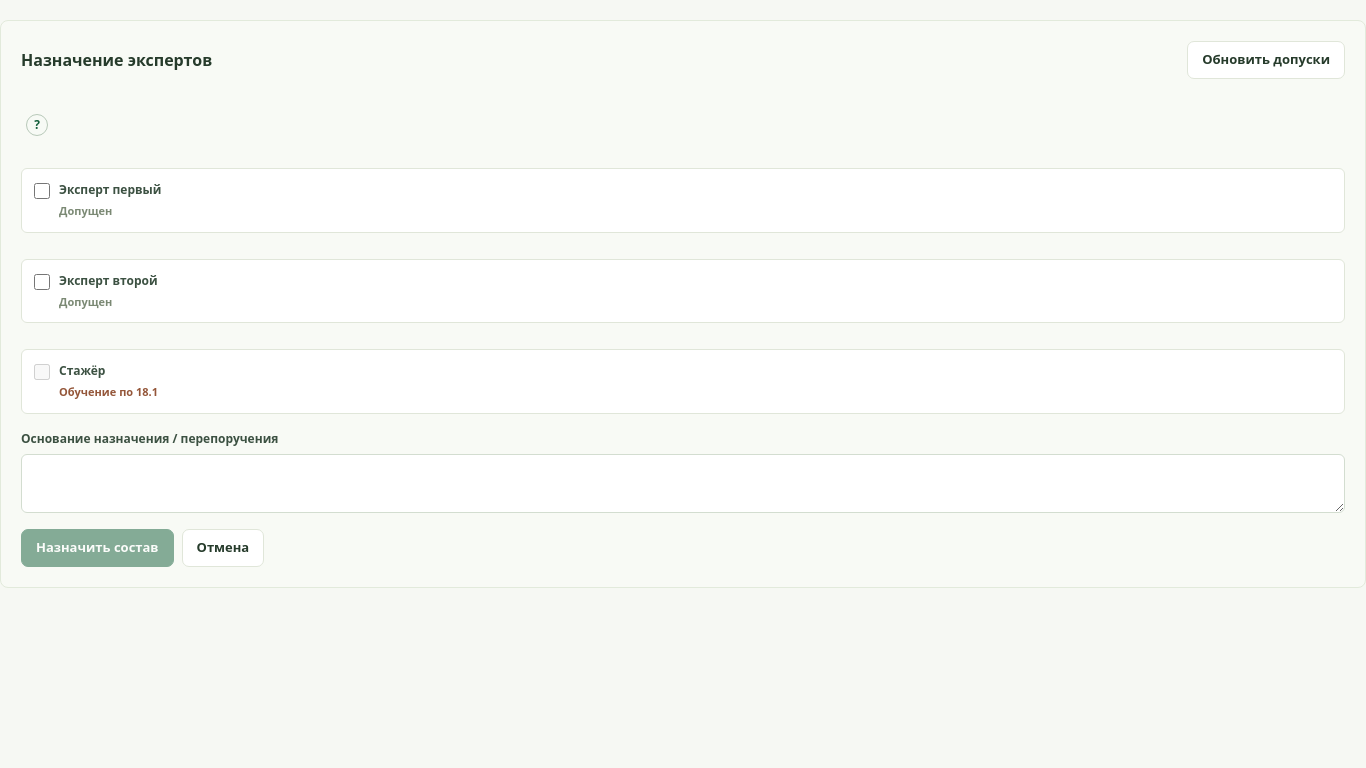
qualified assignment › shows candidate reasons, requires two commission participants and retains selection on a server recheck conflict
This screenshot has width=1366, height=768.
Expected: the checkbox labelled "Стажёр Обучение по 18.1" is disabled, top-left (34, 364), bottom-right (50, 380)
Click the checkbox labelled "Эксперт первый Допущен".
click(42, 191)  # box top-left (34, 183), bottom-right (50, 199)
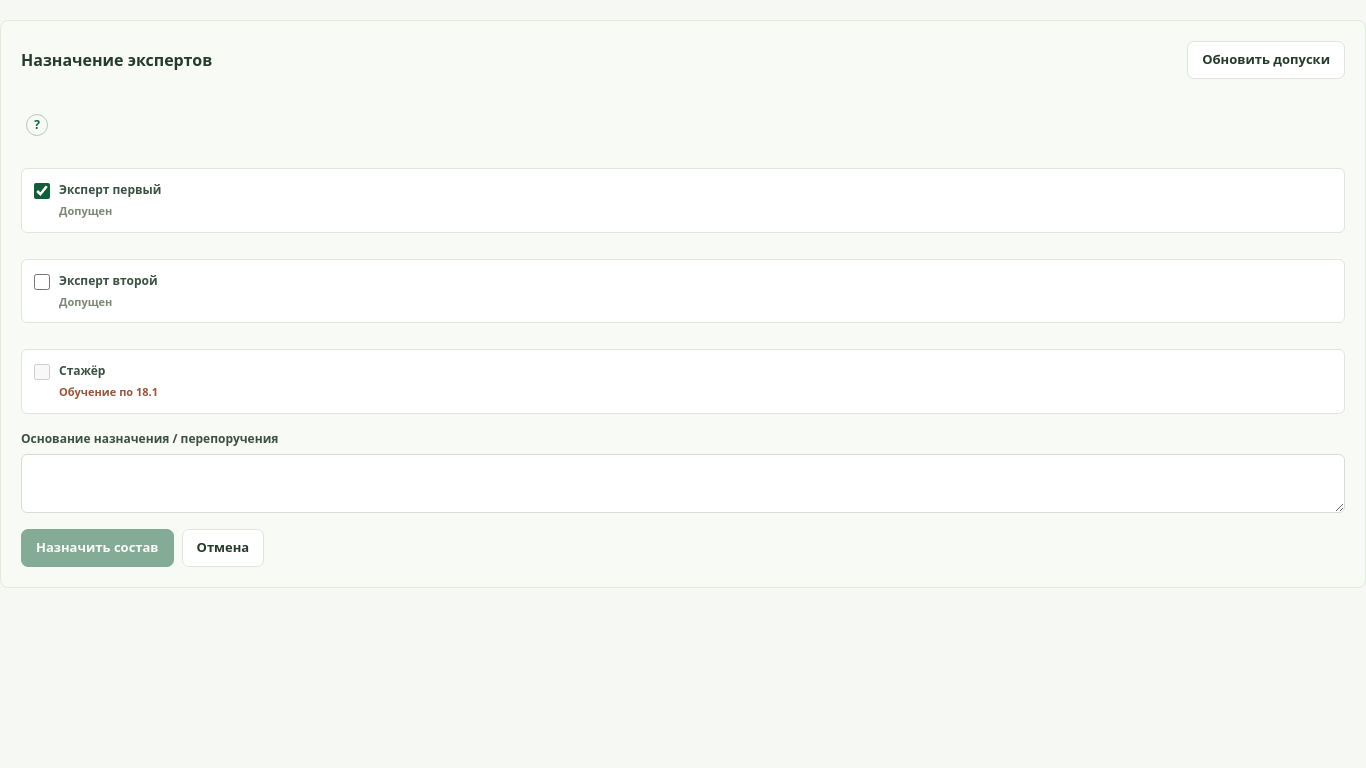
Type "Резолюция начальника" into the text box named "assignment_reason".
click(683, 483); type("Резолюция начальника")  # box top-left (21, 454), bottom-right (1345, 512)
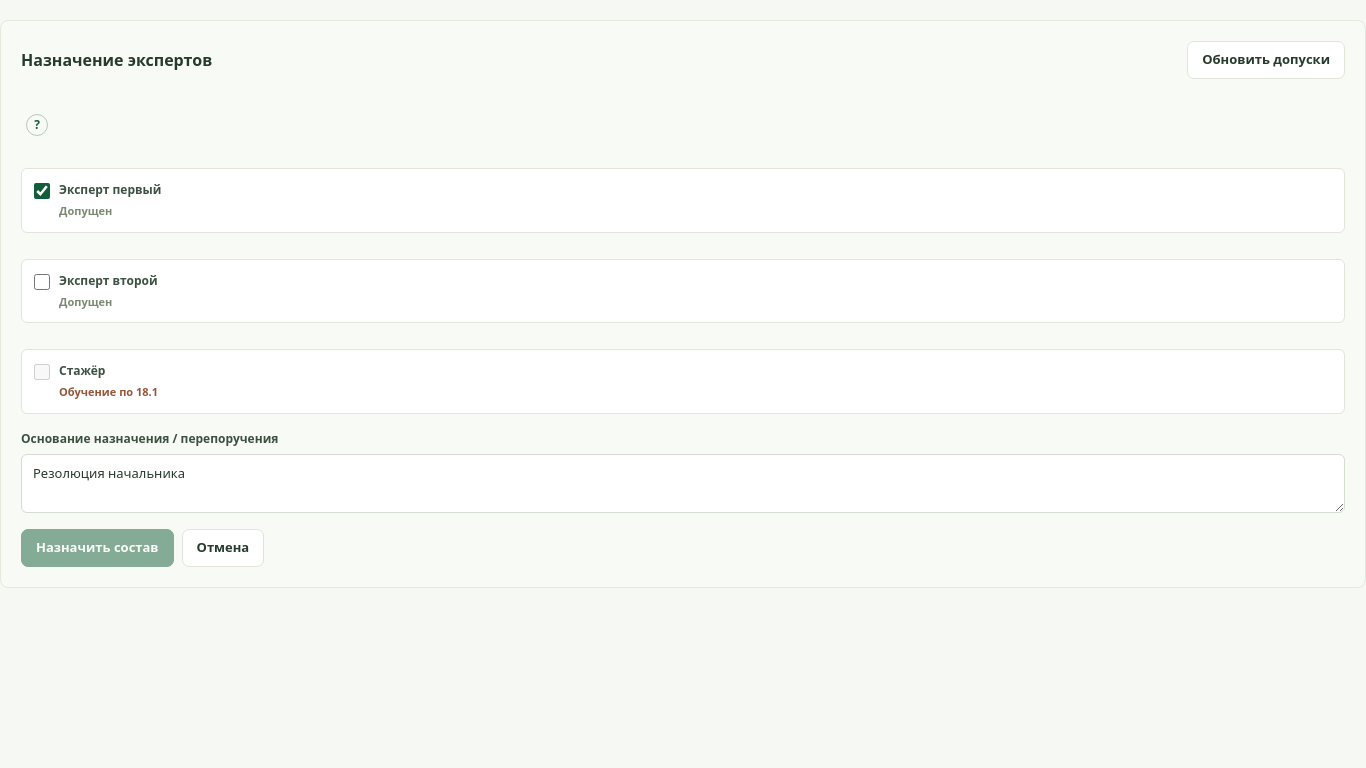
Expected: the submit button is disabled, top-left (21, 528), bottom-right (174, 566)
Click the checkbox labelled "Эксперт второй Допущен".
click(42, 282)  # box top-left (34, 274), bottom-right (50, 290)
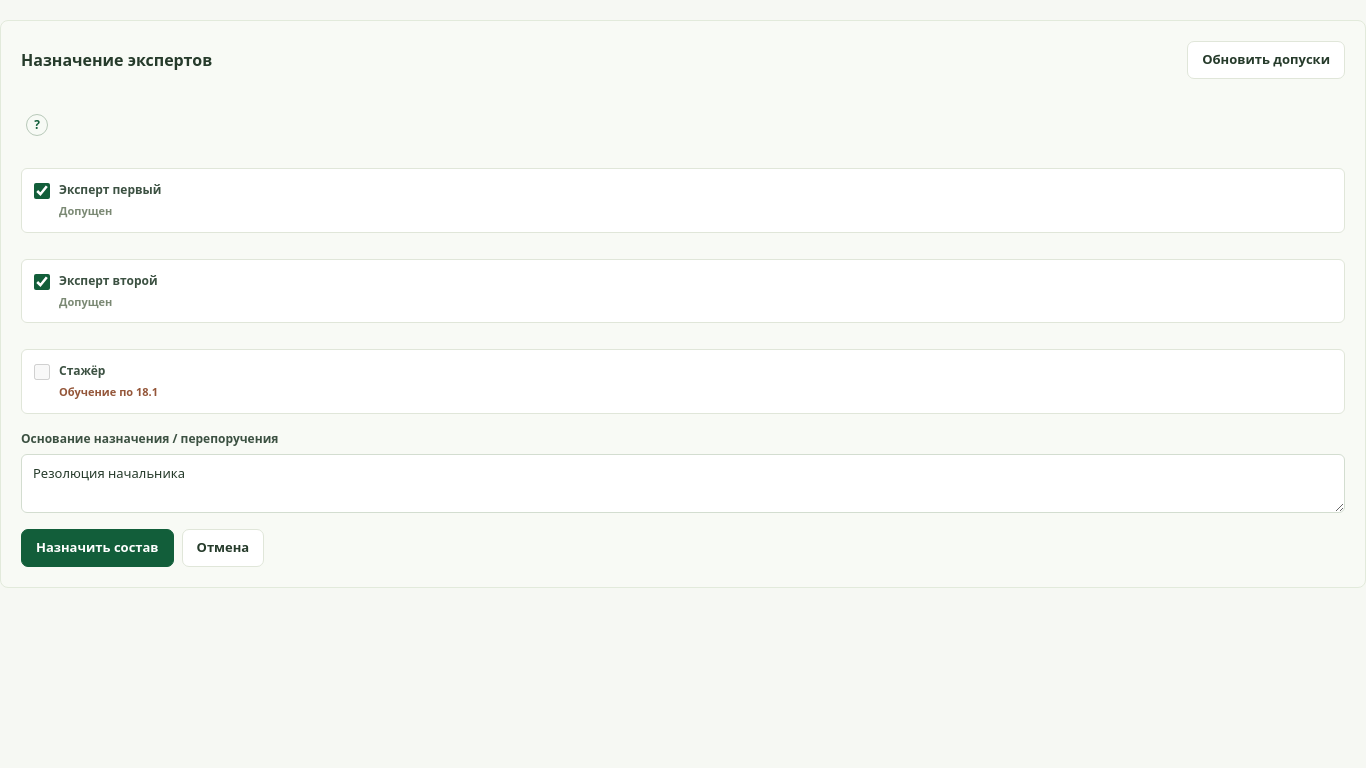
Submit the form
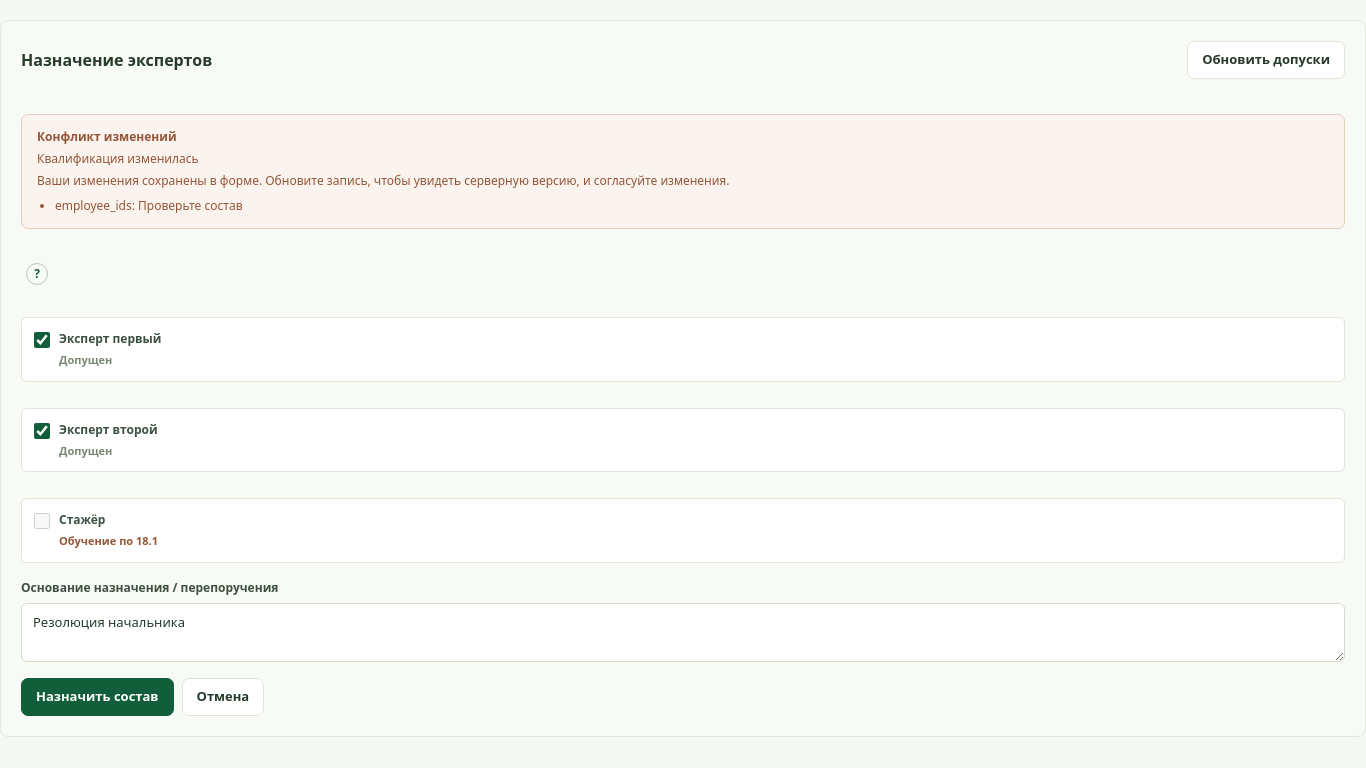
Now the checkbox labelled "Эксперт первый Допущен" is checked, box top-left (34, 332), bottom-right (50, 348)
Now the form shows "Квалификация изменилась", box top-left (37, 150), bottom-right (199, 167)
